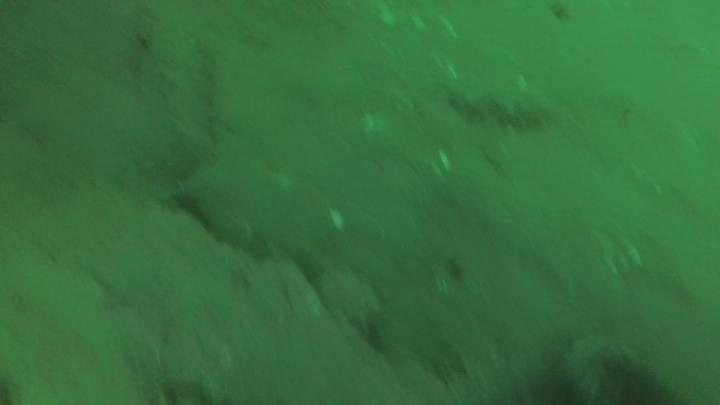holothurian: (160, 32, 225, 156), (441, 75, 560, 132), (447, 338, 552, 401)
